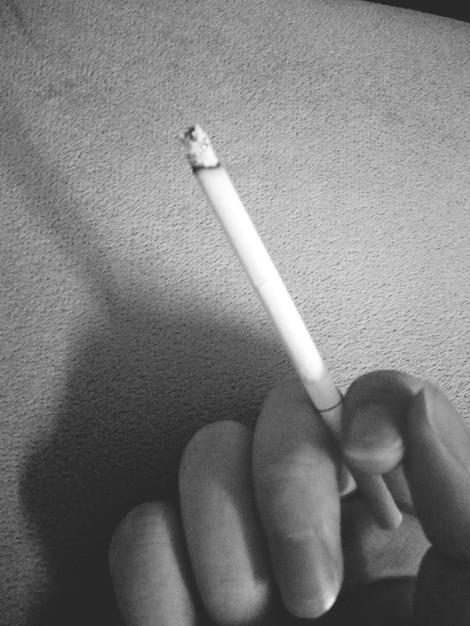cigarette: (180, 125, 341, 441)
